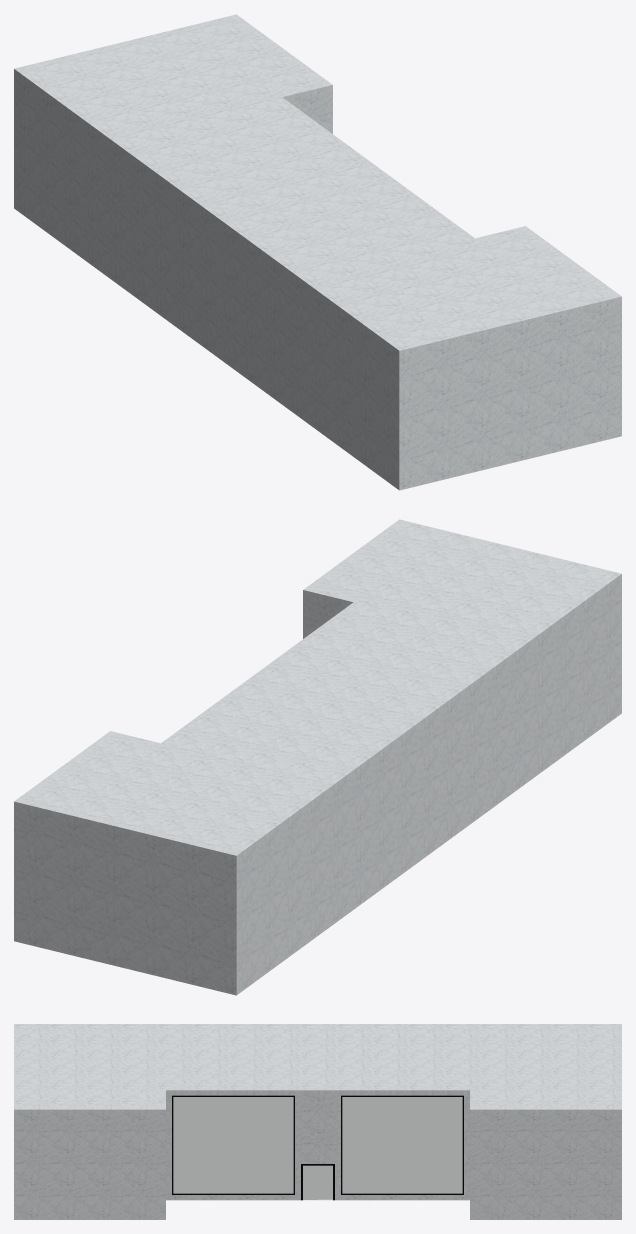
Rendered from Planta Baja.fbx.
The picture shows the model from 3 angles, top to bottom: view 1: azimuth 30°, elevation 25°; view 2: azimuth 150°, elevation 25°; view 3: azimuth 270°, elevation 25°; orthographic projection. The views are drawn at different scales.
Visible parts, largest first — view 1: building_004; view 2: building_004; view 3: building_004.
Part boxes in pixels (left/top/right/bottom): building_004: left=14, top=14, right=621, bottom=490; building_004: left=14, top=519, right=621, bottom=995; building_004: left=14, top=1024, right=621, bottom=1219.
Bounding box in the file's own units: 1000 × 600 × 3000.
2 materials, 2 textured.
